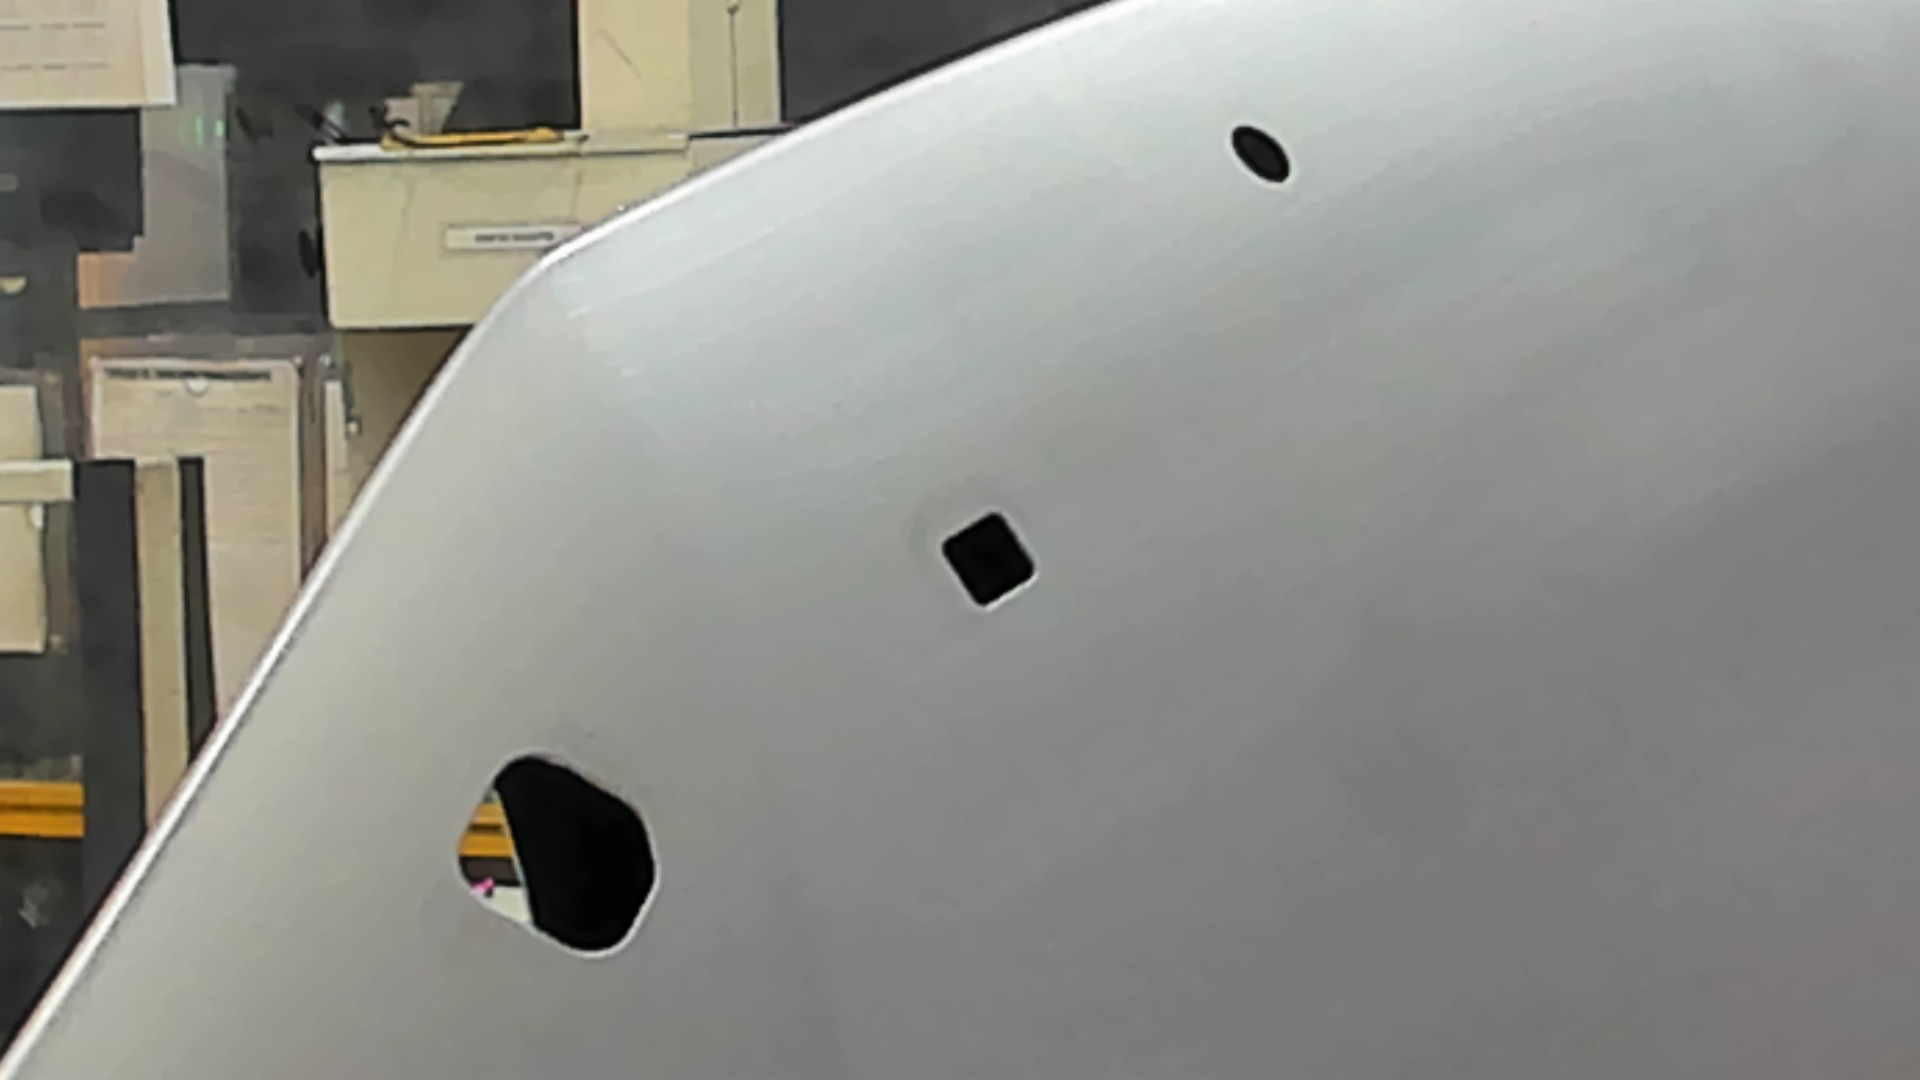Agujero: (939, 506, 1039, 611), (1232, 125, 1291, 182)
Agujerote: (454, 752, 658, 960)
